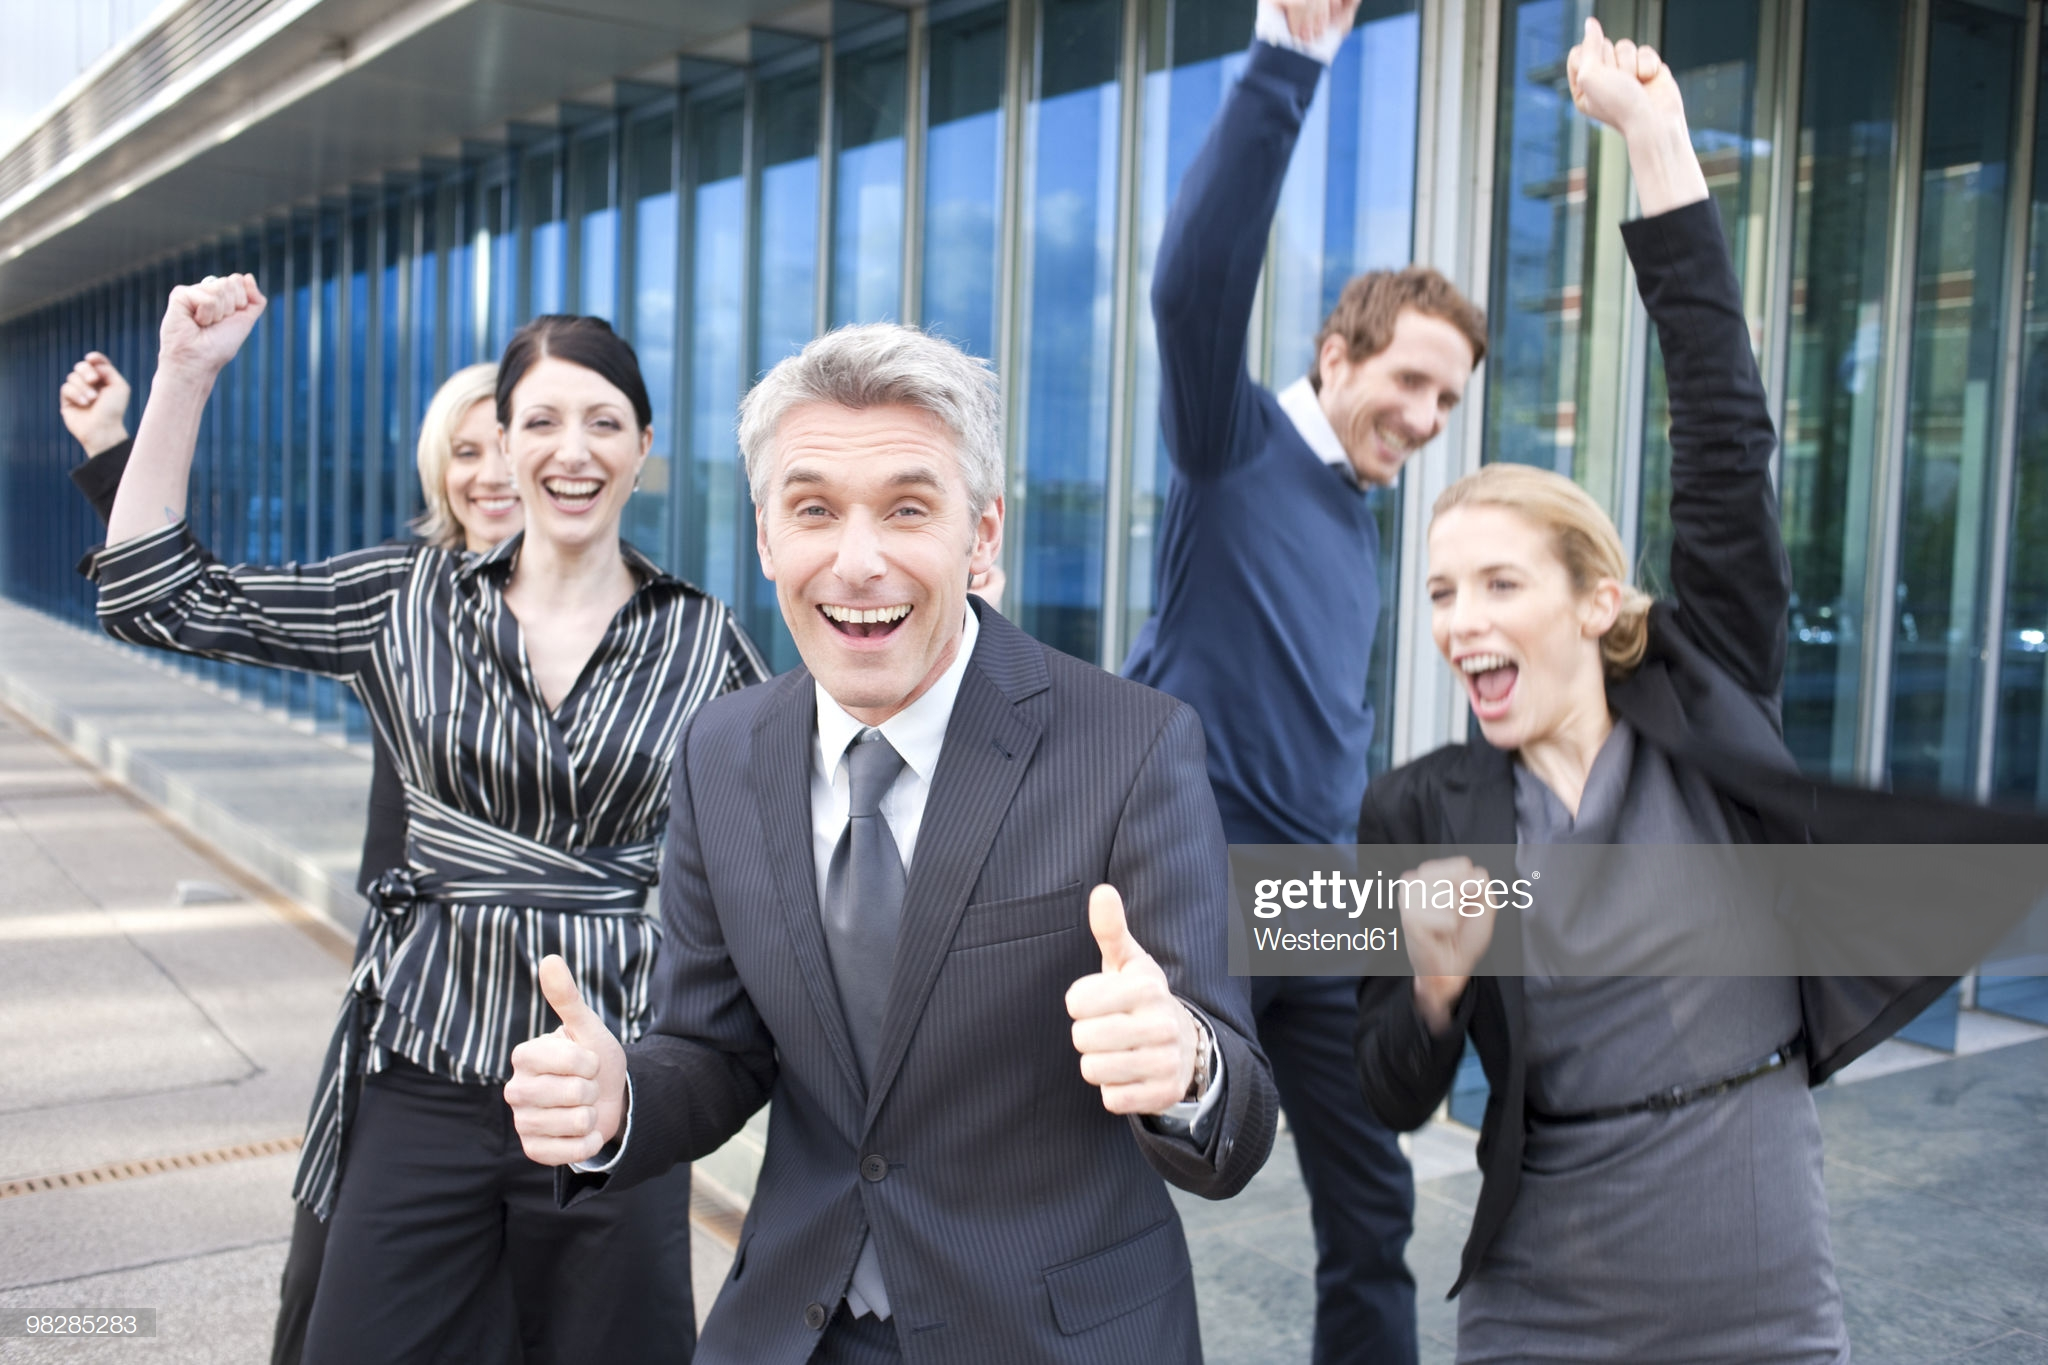thumbsup: (1064, 884, 1186, 1114), (502, 954, 605, 1165)
